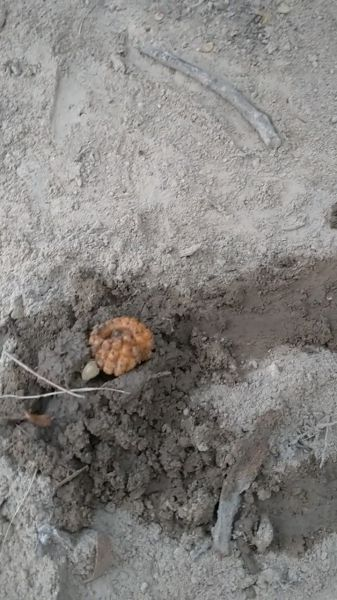eggs: (86, 315, 157, 378)
